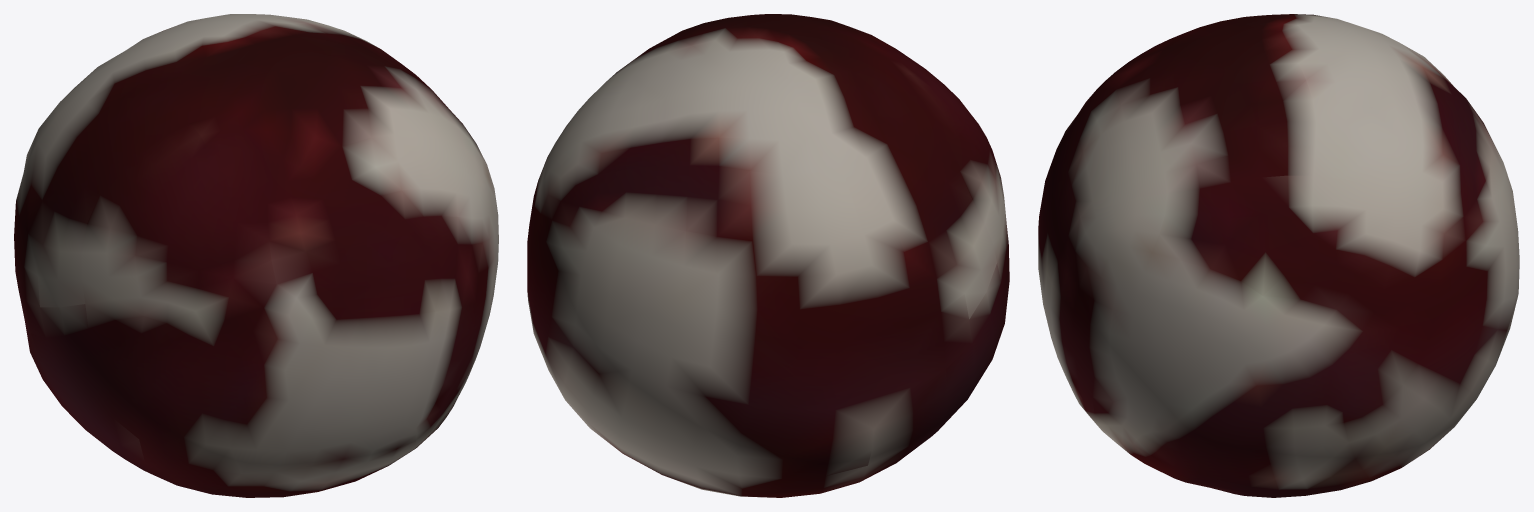
File: 05-6493488-vertex.glb
The picture shows the model from 3 angles, left to right: view 1: azimuth 30°, elevation 25°; view 2: azimuth 150°, elevation 25°; view 3: azimuth 270°, elevation 25°; orthographic projection.
Visible parts, largest first — view 1: Retopo_neural_node_99a19559-0406-4a43-aaa1-5402b9b264b2; view 2: Retopo_neural_node_99a19559-0406-4a43-aaa1-5402b9b264b2; view 3: Retopo_neural_node_99a19559-0406-4a43-aaa1-5402b9b264b2.
Boxes of the visible parts, bbox=[...] form: Retopo_neural_node_99a19559-0406-4a43-aaa1-5402b9b264b2: bbox=[14, 14, 498, 497]; Retopo_neural_node_99a19559-0406-4a43-aaa1-5402b9b264b2: bbox=[527, 14, 1009, 497]; Retopo_neural_node_99a19559-0406-4a43-aaa1-5402b9b264b2: bbox=[1038, 14, 1519, 497].
Size of the model in its own units: 0.4853 by 0.4852 by 0.4844.
